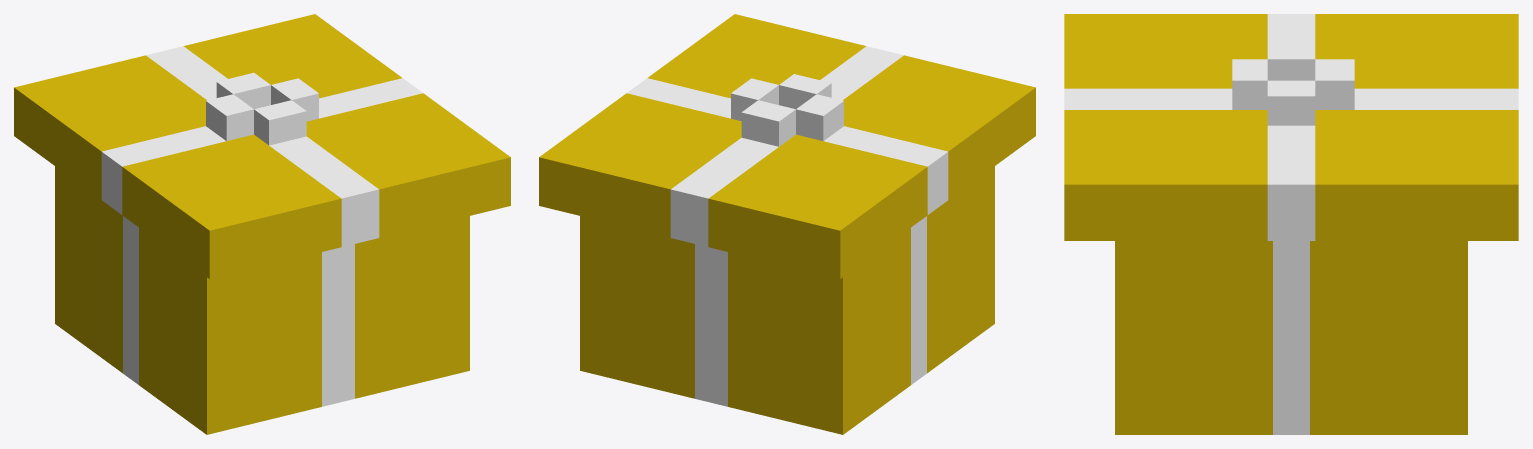
File: AMARILLO.fbx
The picture shows the model from 3 angles, left to right: view 1: azimuth 30°, elevation 25°; view 2: azimuth 150°, elevation 25°; view 3: azimuth 270°, elevation 25°; orthographic projection. The views are drawn at different scales.
Parts seen in each view (by area): view 1: Cube.001; view 2: Cube.001; view 3: Cube.001.
Boxes of the visible parts, left/top/right/bottom form: Cube.001: left=14, top=14, right=510, bottom=434; Cube.001: left=539, top=14, right=1035, bottom=434; Cube.001: left=1064, top=14, right=1518, bottom=434.
Bounding box in the file's own units: 229 × 182 × 258.
